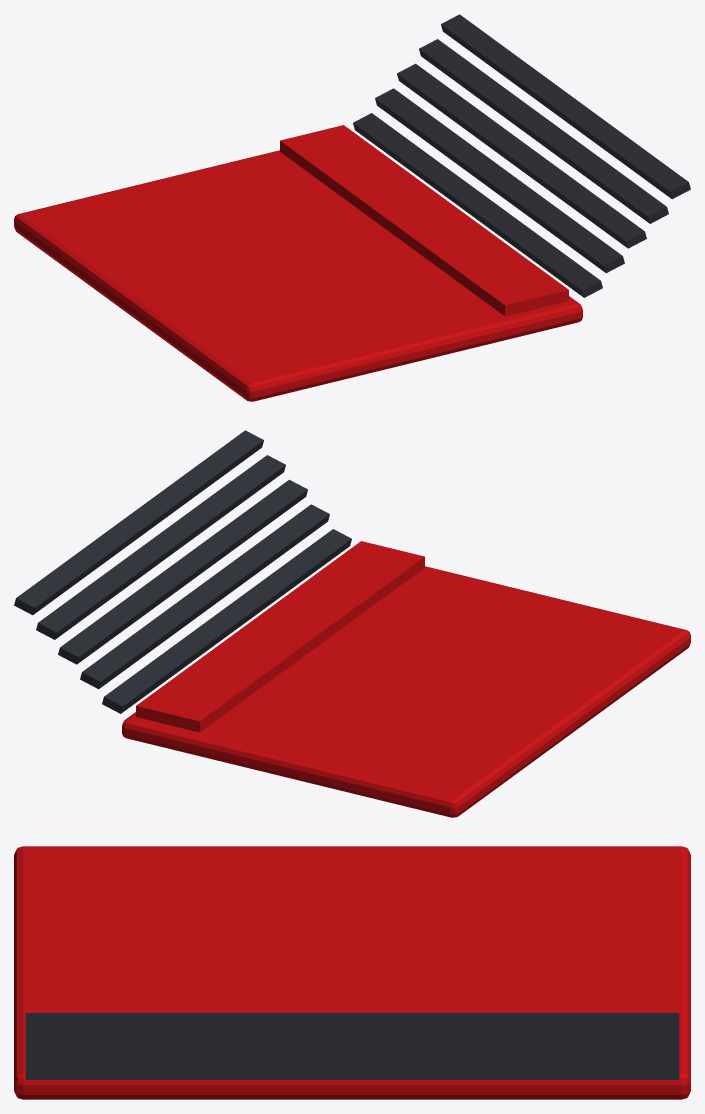
File: engine_lid.obj
The picture shows the model from 3 angles, top to bottom: view 1: azimuth 30°, elevation 25°; view 2: azimuth 150°, elevation 25°; view 3: azimuth 270°, elevation 25°; orthographic projection. The views are drawn at different scales.
Visible parts, largest first — view 1: Cube; view 2: Cube; view 3: Cube.
Boxes of the visible parts, bbox=[...] form: Cube: bbox=[14, 14, 690, 401]; Cube: bbox=[14, 430, 690, 817]; Cube: bbox=[14, 846, 690, 1099].
Size of the model in its own units: 1.26 by 0.3017 by 1.16.
